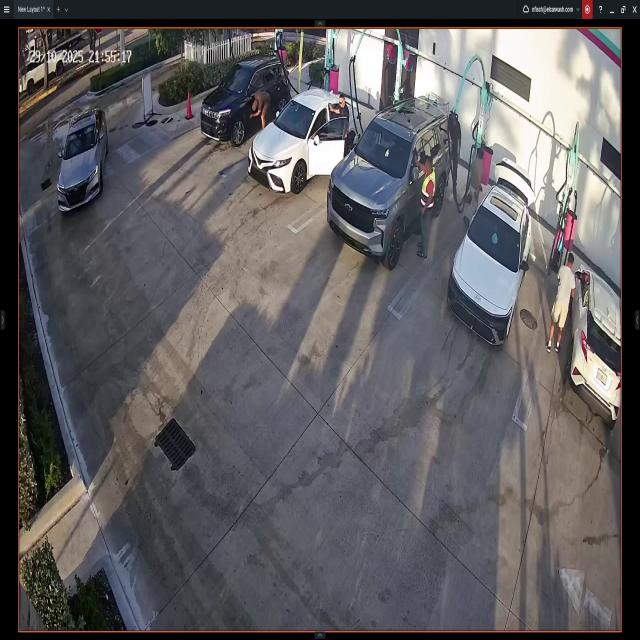Car: (327, 104, 459, 268), (447, 168, 531, 340), (250, 89, 362, 193), (569, 266, 622, 426), (200, 60, 289, 145), (56, 108, 106, 214)
